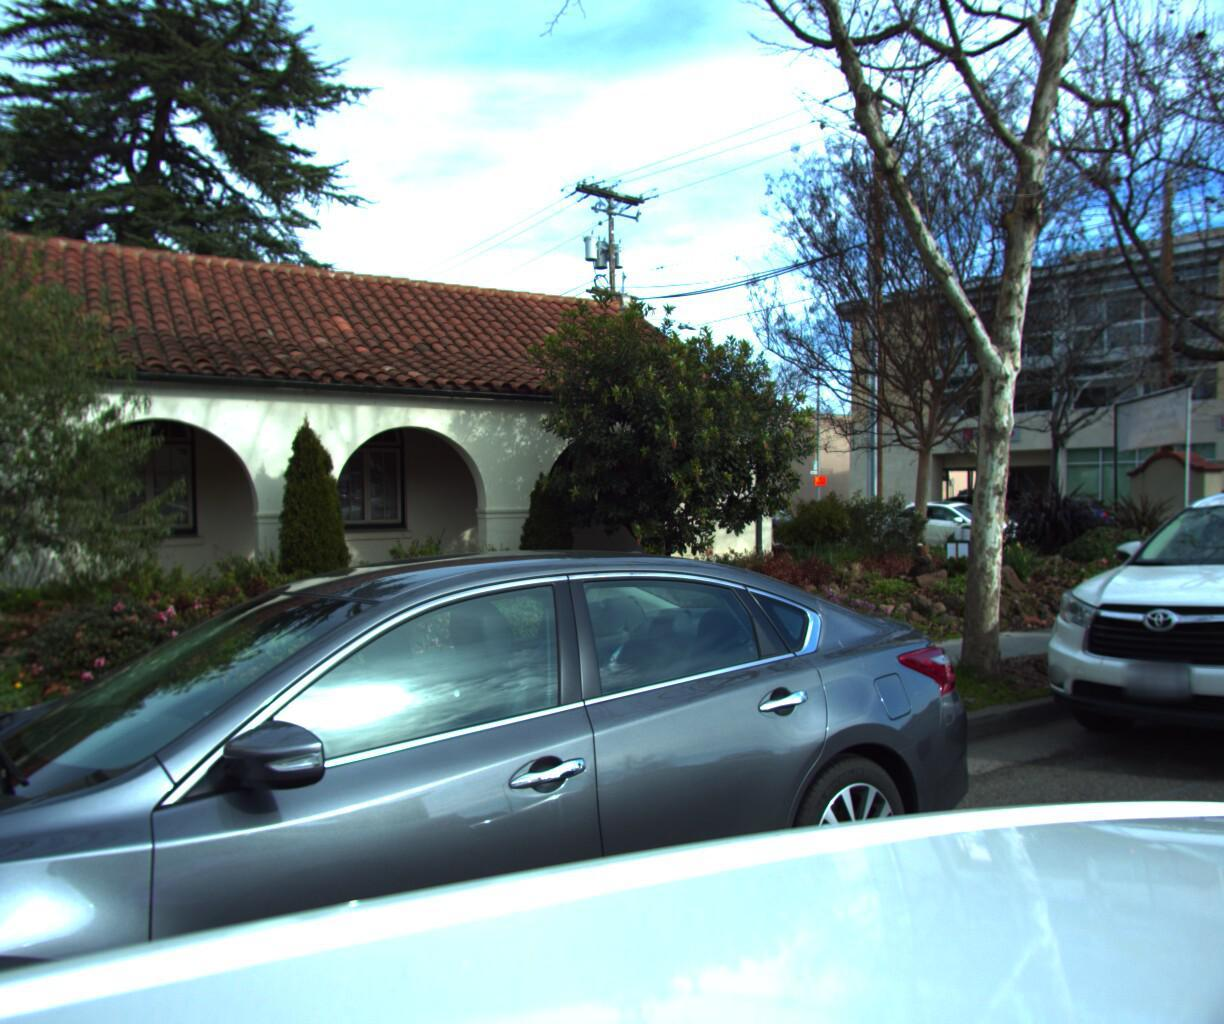car: (0, 521, 1012, 1024), (1003, 463, 1224, 834), (865, 491, 1059, 551), (1142, 478, 1224, 537)
